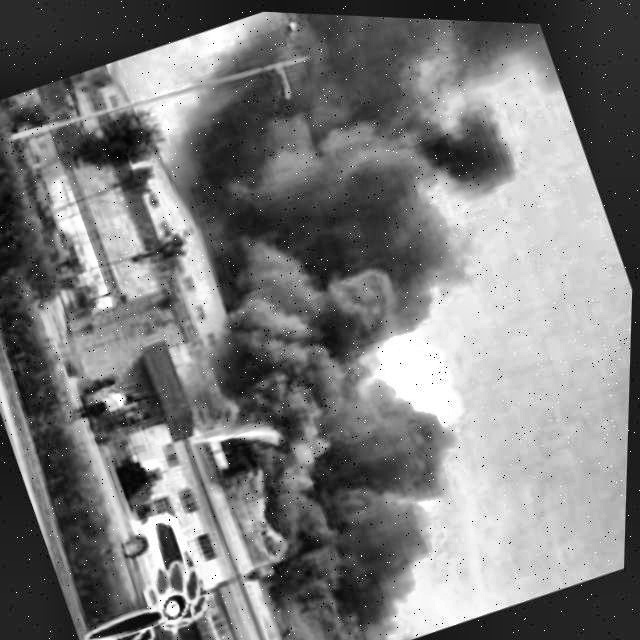Smoke: (214, 311, 473, 561), (244, 9, 503, 246), (141, 34, 337, 293), (216, 195, 474, 375), (271, 501, 464, 640), (420, 15, 564, 114)
